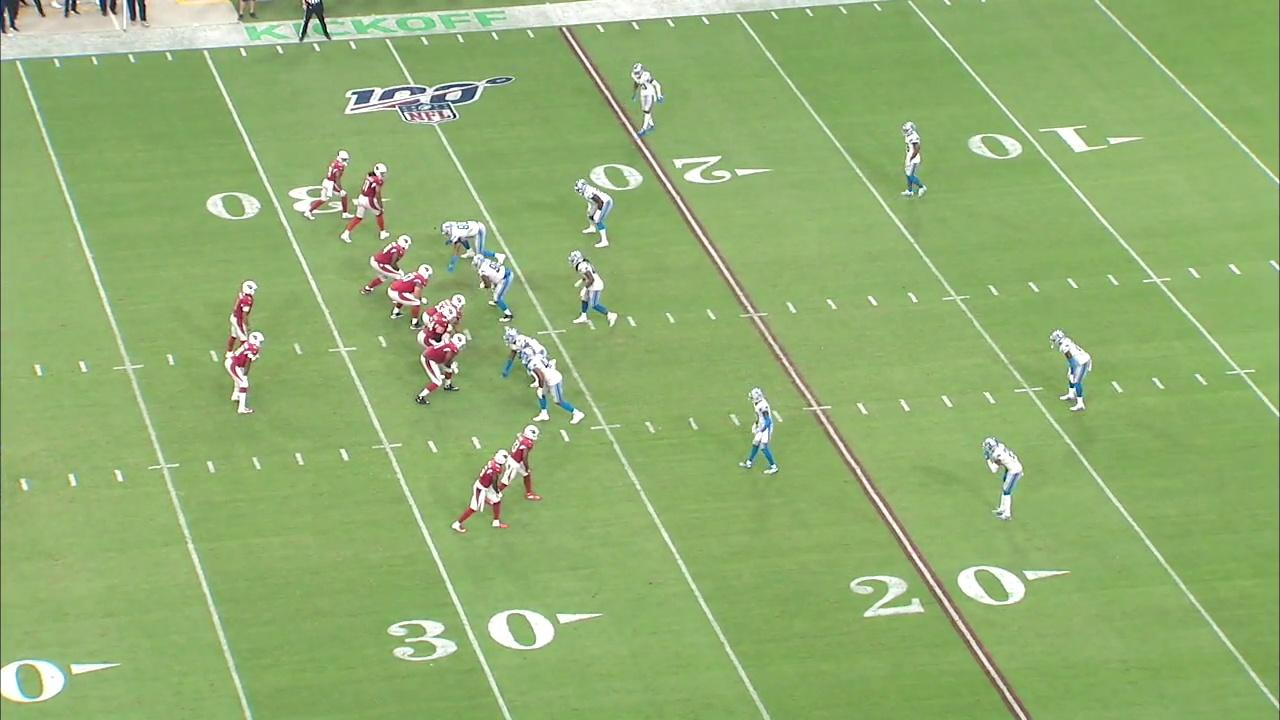player: (1044, 327, 1099, 417), (517, 350, 579, 429), (567, 247, 620, 334), (980, 436, 1026, 530), (308, 136, 360, 217), (225, 337, 274, 419), (419, 335, 471, 410), (501, 421, 546, 507), (464, 450, 510, 534), (349, 163, 399, 240), (623, 56, 663, 146), (744, 383, 777, 492), (469, 247, 515, 325), (365, 231, 419, 295), (386, 264, 437, 321), (439, 219, 506, 261), (227, 274, 261, 353), (501, 320, 544, 382), (897, 120, 928, 204), (577, 180, 613, 251), (418, 289, 470, 325), (421, 309, 461, 352)
ref: (299, 0, 334, 46)
